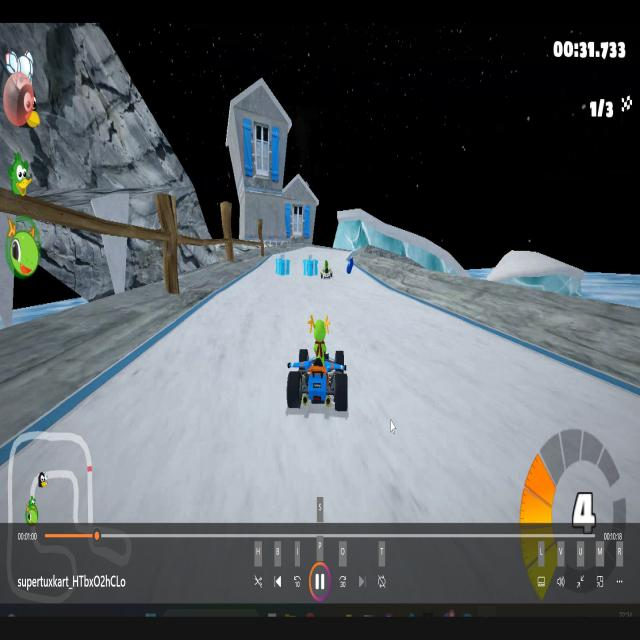bonus: (300, 250, 318, 279), (274, 248, 292, 276)
enemy_kart: (319, 262, 334, 283)
nitro: (345, 257, 355, 274)
player_kart: (282, 312, 348, 410)
